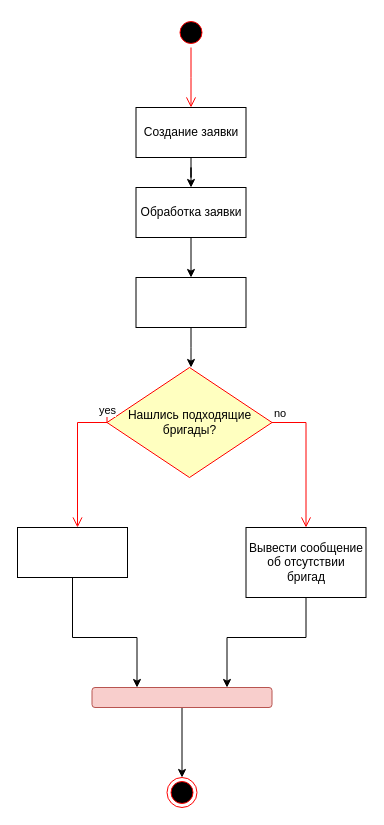
Some shapes in this 384 by 825 pixel diagram are drawn without their labels. Each missing label, with the centre of its shape:
"Выполнить работы" goes at [72,552].
"Поиск подходящей бригады" goes at [190,302].
